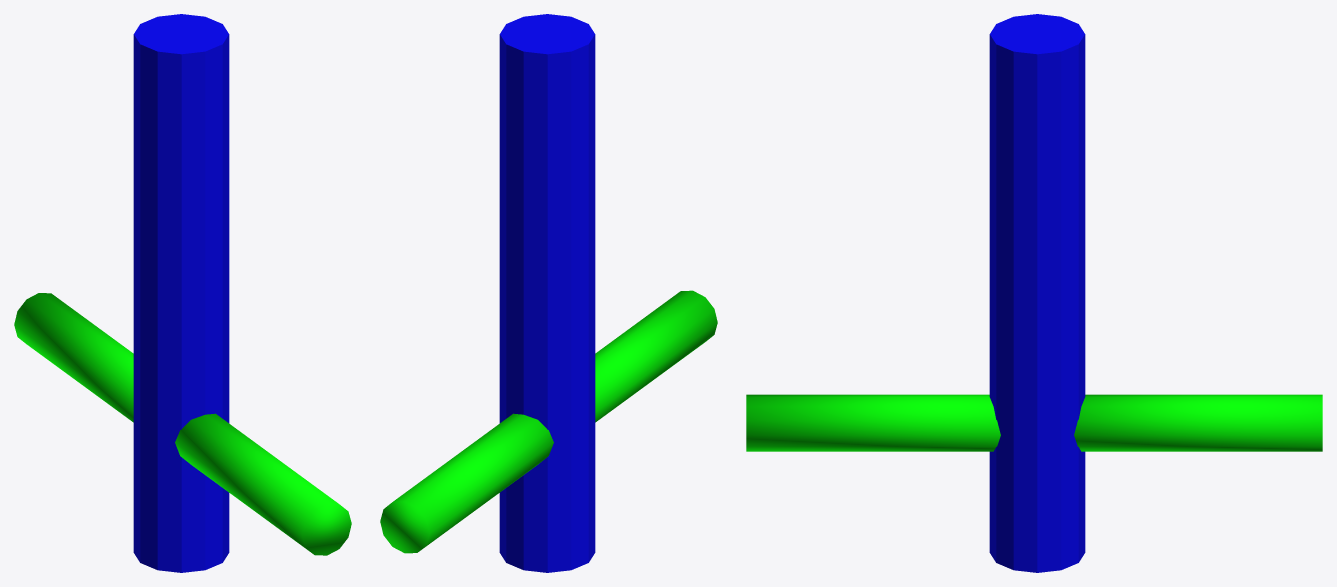
File: rotate.fbx
The picture shows the model from 3 angles, left to right: view 1: azimuth 30°, elevation 25°; view 2: azimuth 150°, elevation 25°; view 3: azimuth 270°, elevation 25°; orthographic projection.
Parts seen in each view (by area): view 1: rotate; view 2: rotate; view 3: rotate.
Boxes of the visible parts, <box> form: rotate: <box>14,14,351,572</box>; rotate: <box>380,14,717,572</box>; rotate: <box>746,14,1322,572</box>.
Bounding box in the file's own units: 100 × 600 × 604.
